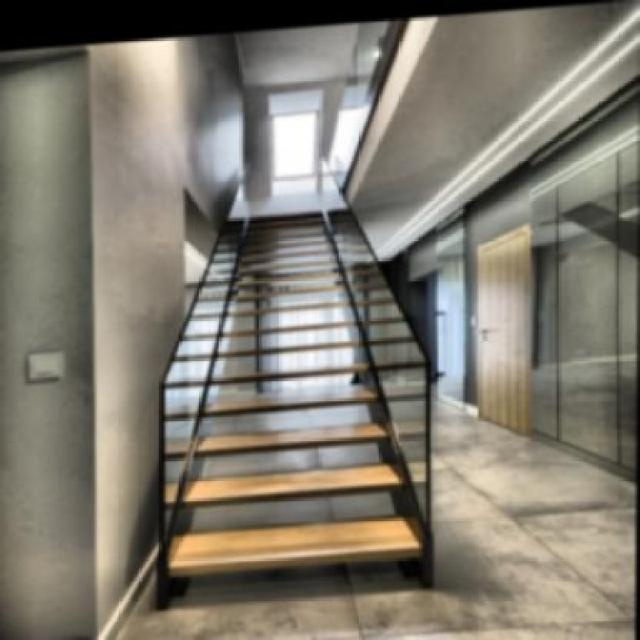stair: (162, 178, 424, 571)
